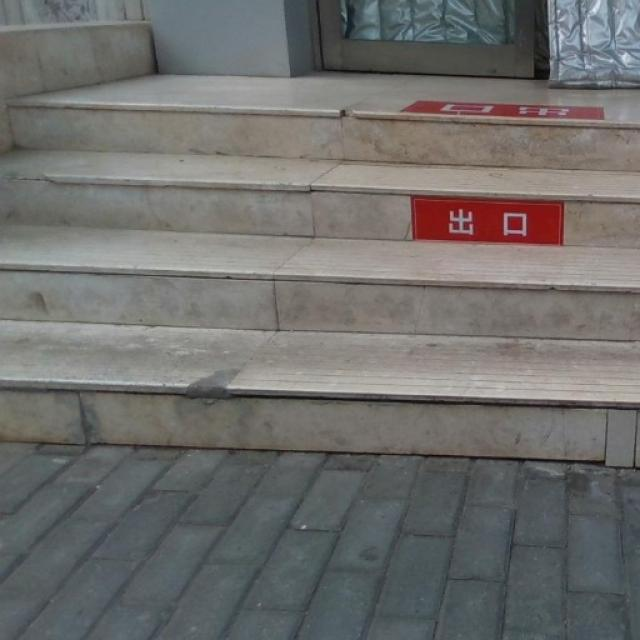Stairs: (0, 19, 639, 468)
